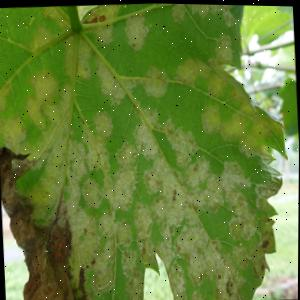Folha: (0, 0, 296, 300)
Fungo: (168, 202, 248, 300), (245, 175, 290, 291), (222, 71, 261, 142), (217, 179, 253, 246), (69, 206, 103, 275), (27, 4, 73, 53), (45, 84, 81, 146), (185, 156, 224, 212), (21, 70, 59, 127), (133, 192, 160, 269), (143, 158, 186, 206), (163, 112, 199, 163), (95, 59, 138, 99), (101, 162, 141, 204), (98, 206, 136, 248), (117, 248, 145, 300), (61, 34, 93, 78), (30, 171, 56, 218), (219, 154, 252, 191), (172, 56, 212, 86), (123, 11, 150, 51), (142, 62, 170, 98), (0, 112, 25, 151), (139, 102, 159, 150), (199, 3, 242, 25), (205, 65, 231, 96), (81, 174, 104, 209), (90, 12, 114, 45), (200, 101, 222, 133), (214, 31, 234, 64), (93, 108, 114, 138), (0, 77, 16, 115), (168, 3, 196, 21), (116, 142, 135, 159)
